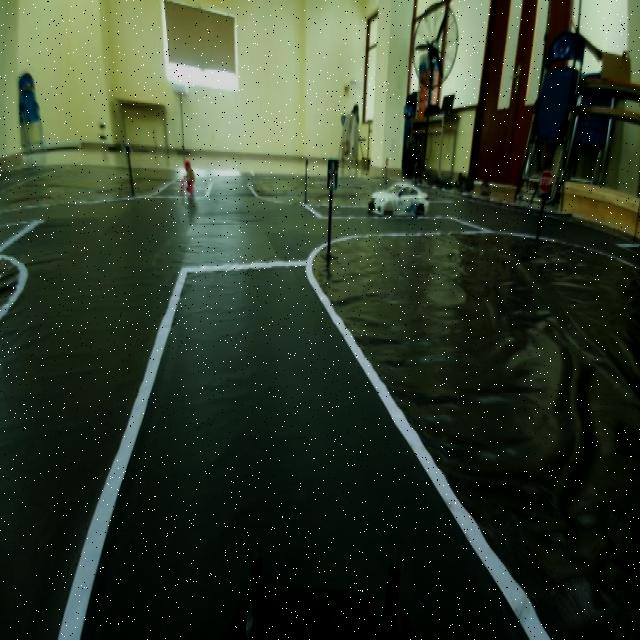highway_exit: (324, 157, 342, 198)
